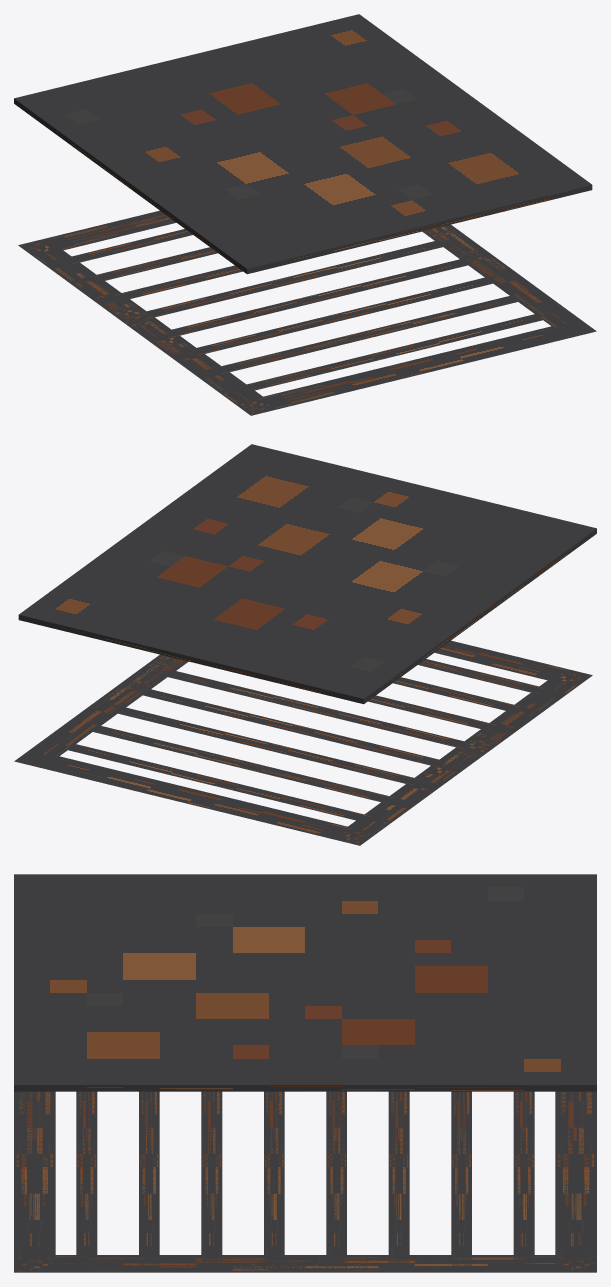
The model's file is Brasero.fbx.
The picture shows the model from 3 angles, top to bottom: view 1: azimuth 30°, elevation 25°; view 2: azimuth 150°, elevation 25°; view 3: azimuth 270°, elevation 25°; orthographic projection. The views are drawn at different scales.
Parts seen in each view (by area): view 1: ash_pan, frame_back, frame_left, frame_right, bar_6, bar_7, bar_5, bar_8, bar_4, frame_front, bar_1, bar_3 (+1 smaller); view 2: ash_pan, frame_front, frame_left, frame_right, bar_3, bar_2, bar_4, bar_1, bar_5, frame_back, bar_8, bar_6 (+1 smaller); view 3: ash_pan, frame_right, frame_back, frame_front, bar_1, bar_8, bar_6, bar_3, bar_4, bar_5, bar_2, bar_7 (+2 smaller).
Boxes of the visible parts, <box> form: ash_pan: <box>14,14,592,274</box>; frame_back: <box>235,326,593,414</box>; frame_left: <box>20,239,275,414</box>; frame_right: <box>422,224,595,337</box>; bar_6: <box>169,270,515,360</box>; bar_7: <box>193,296,517,379</box>; bar_5: <box>146,252,488,342</box>; bar_8: <box>218,314,542,395</box>; bar_4: <box>127,235,471,323</box>; frame_front: <box>19,210,176,250</box>; bar_1: <box>43,229,192,269</box>; bar_3: <box>93,265,242,305</box>; ash_pan: <box>18,444,596,704</box>; frame_front: <box>17,756,375,844</box>; frame_left: <box>335,671,590,844</box>; frame_right: <box>15,654,188,768</box>; bar_3: <box>95,700,441,790</box>; bar_2: <box>93,726,417,809</box>; bar_4: <box>121,682,464,772</box>; bar_1: <box>68,744,392,825</box>; bar_5: <box>142,665,484,754</box>; frame_back: <box>434,640,591,680</box>; bar_8: <box>418,659,567,699</box>; bar_6: <box>368,695,517,735</box>; ash_pan: <box>14,874,596,1091</box>; frame_right: <box>15,1255,595,1272</box>; frame_back: <box>14,1091,55,1272</box>; frame_front: <box>555,1091,596,1272</box>; bar_1: <box>513,1091,534,1272</box>; bar_8: <box>76,1091,97,1272</box>; bar_6: <box>201,1091,222,1272</box>; bar_3: <box>388,1091,409,1272</box>; bar_4: <box>326,1091,346,1271</box>; bar_5: <box>264,1091,284,1271</box>; bar_2: <box>451,1091,471,1272</box>; bar_7: <box>139,1091,159,1272</box>.
Bounding box in the file's own units: 2427 × 980 × 2800.
1 material, 1 textured.
